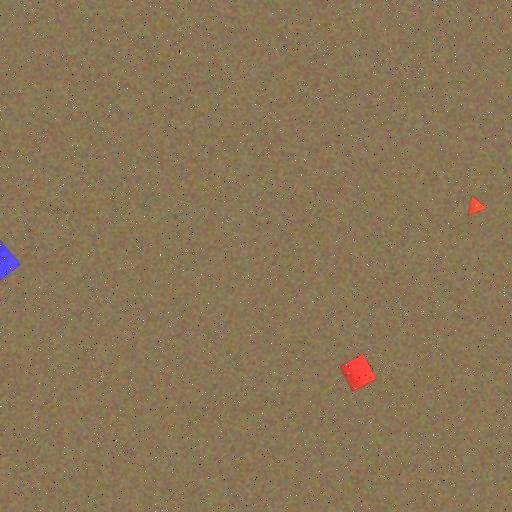RED_SQUARE: (338, 353, 377, 392)
